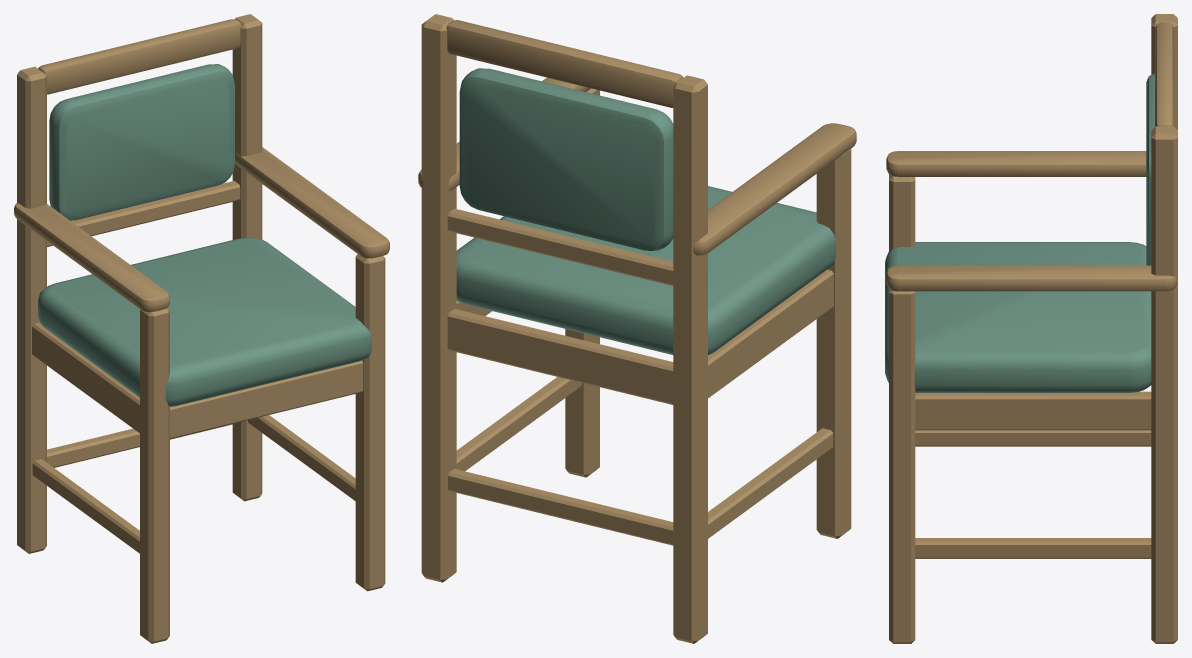
File: acu-patient-chair.glb
The picture shows the model from 3 angles, left to right: view 1: azimuth 30°, elevation 25°; view 2: azimuth 150°, elevation 25°; view 3: azimuth 270°, elevation 25°; orthographic projection. The views are drawn at different scales.
Parts seen in each view (by area): view 1: acu-patient-chair; view 2: acu-patient-chair; view 3: acu-patient-chair.
Boxes of the visible parts, bbox=[...] form: acu-patient-chair: bbox=[14, 14, 389, 643]; acu-patient-chair: bbox=[418, 14, 856, 643]; acu-patient-chair: bbox=[885, 14, 1177, 643].
Size of the model in its own units: 0.4844 by 0.893 by 0.463.
